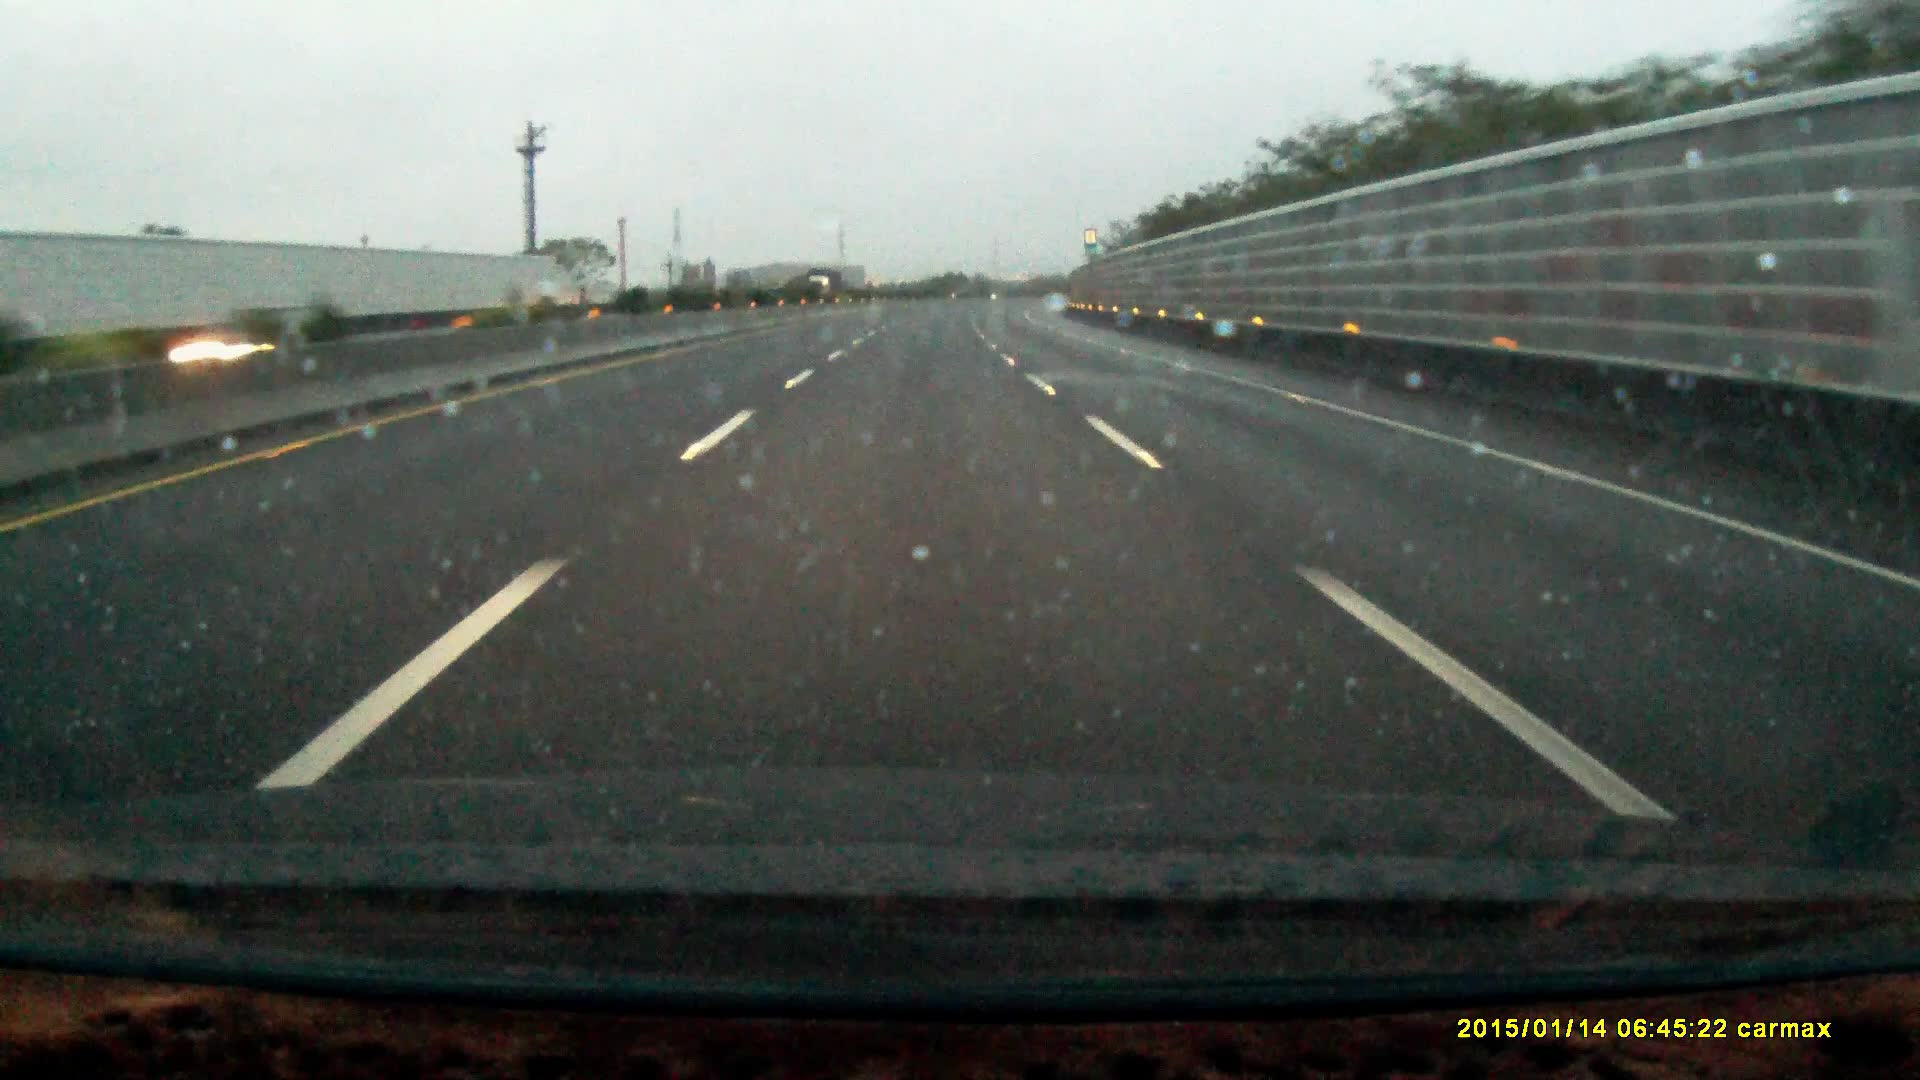vehicle: (164, 305, 338, 400), (806, 268, 843, 303)
